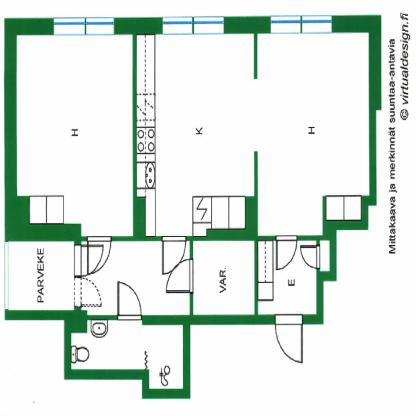door: (274, 315, 305, 365), (115, 278, 143, 324), (164, 258, 194, 294), (162, 234, 186, 278), (73, 245, 105, 274), (74, 278, 104, 308), (87, 236, 111, 272), (276, 233, 298, 272), (300, 244, 322, 272)
window: (270, 16, 334, 34), (53, 17, 114, 35), (162, 17, 223, 34)
zone: (136, 31, 370, 235), (13, 32, 140, 238), (70, 316, 185, 392), (80, 242, 190, 314), (4, 240, 75, 310), (258, 237, 317, 316), (192, 241, 254, 314)
